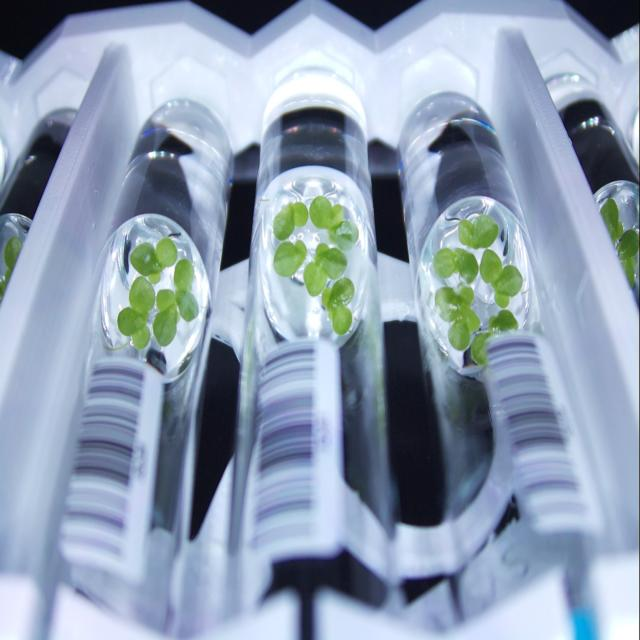Lemna-Gibba: (0, 237, 22, 301), (274, 240, 308, 277), (130, 242, 161, 277), (152, 307, 178, 347), (129, 277, 155, 316), (318, 247, 348, 280), (329, 220, 359, 250), (494, 265, 522, 297), (435, 287, 460, 322), (455, 248, 479, 284), (272, 203, 295, 240), (304, 262, 328, 297), (328, 277, 355, 308), (480, 248, 502, 284), (474, 215, 499, 246), (309, 195, 332, 228), (118, 307, 145, 335), (432, 248, 456, 279), (176, 290, 199, 322), (470, 332, 491, 365), (155, 237, 178, 267), (329, 305, 352, 335), (489, 309, 519, 332), (449, 319, 470, 350), (174, 259, 194, 290), (4, 237, 22, 270), (460, 304, 480, 332), (131, 325, 150, 350), (156, 289, 176, 312), (459, 218, 474, 247), (292, 202, 309, 226), (330, 203, 344, 228), (315, 243, 329, 264), (495, 290, 510, 309), (459, 287, 474, 305), (321, 287, 331, 307), (149, 272, 160, 284)
